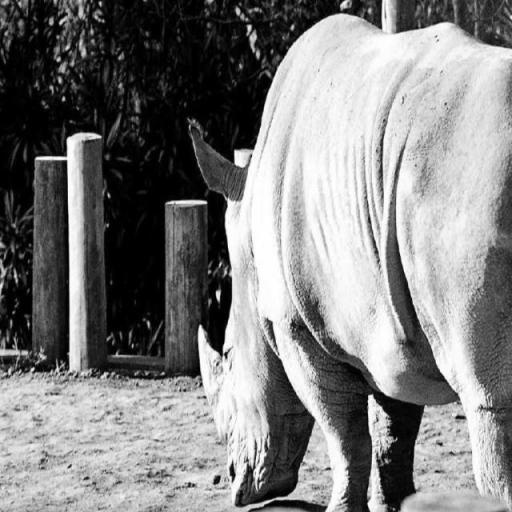Rhino: (186, 11, 512, 511)
